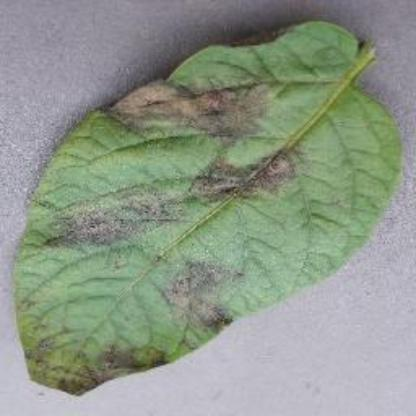Late-Blight: (10, 17, 406, 397)
